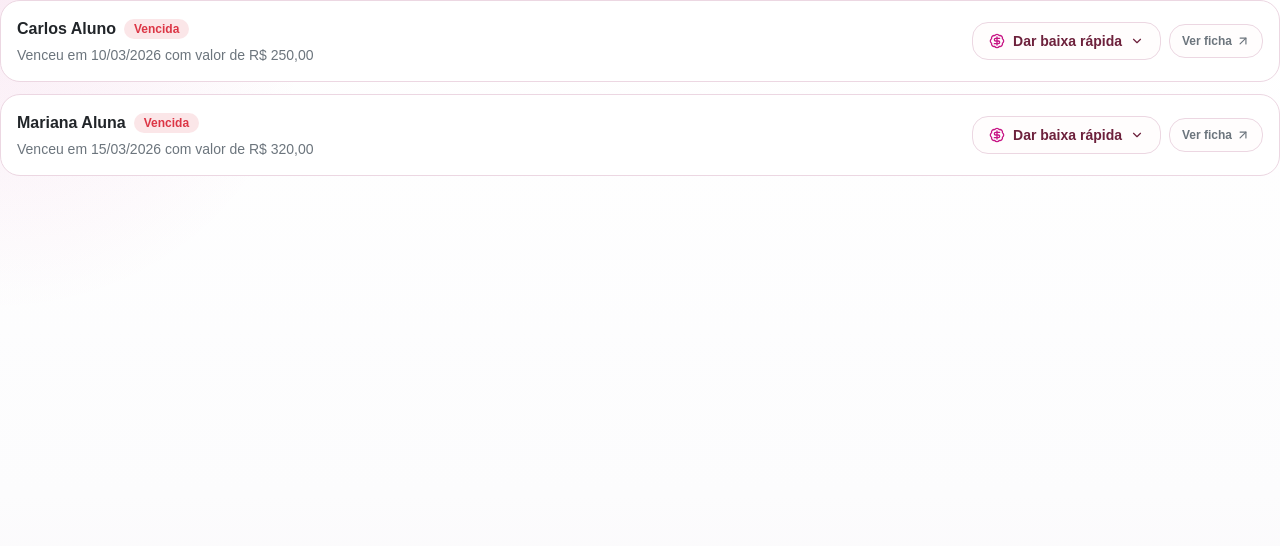
Test: OverdueInvoicesPanel › permite dar baixa rapida com sucesso e remove a fatura da lista
The image size is (1280, 546).
Click the button "Dar baixa rápida" in the row of "R$ 250,00".
click(1066, 41)  # box [972,22,1161,60]
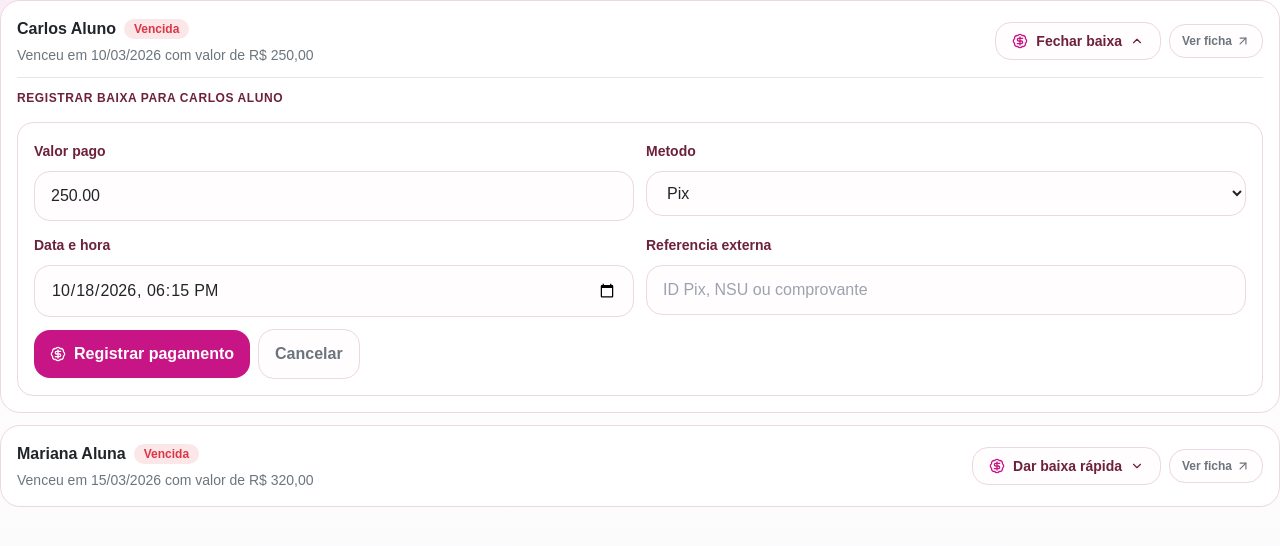
Expected: the text "Registrar baixa para Carlos Aluno" is shown, [17,91,283,105]
Click the button "Registrar pagamento".
click(142, 354)  # box [34,330,250,378]
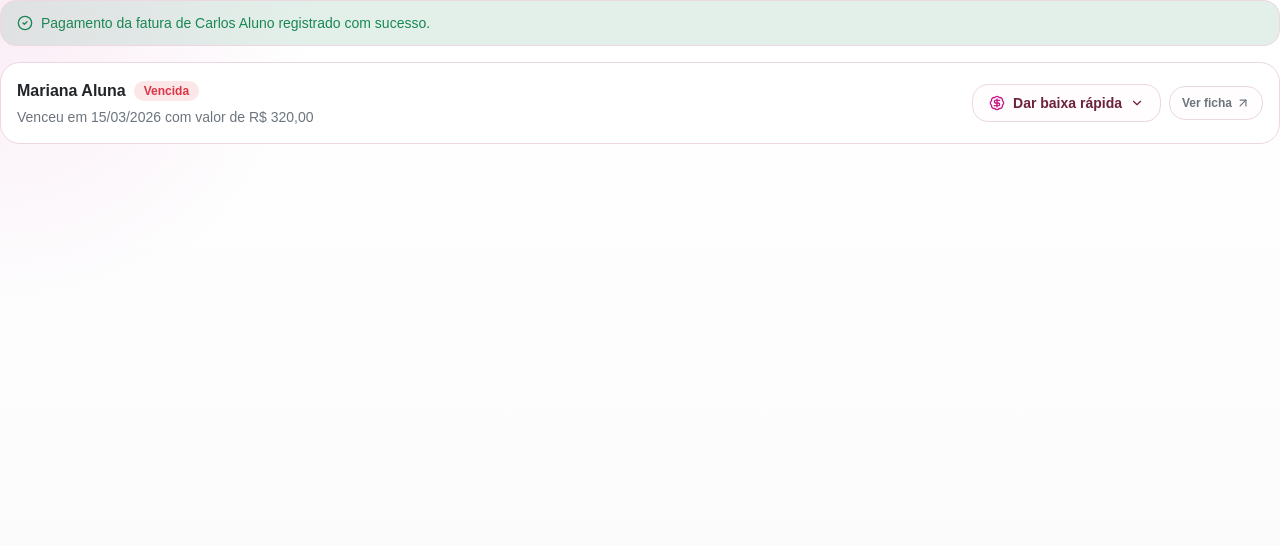
Expected: the text "Mariana Aluna" is shown, [17,79,126,103]
Expected: the text "Pagamento da fatura de Carlos Aluno registrado com sucesso." is shown, [41,13,430,33]
Expected: the text "Registrar baixa para Carlos Aluno" is gone
